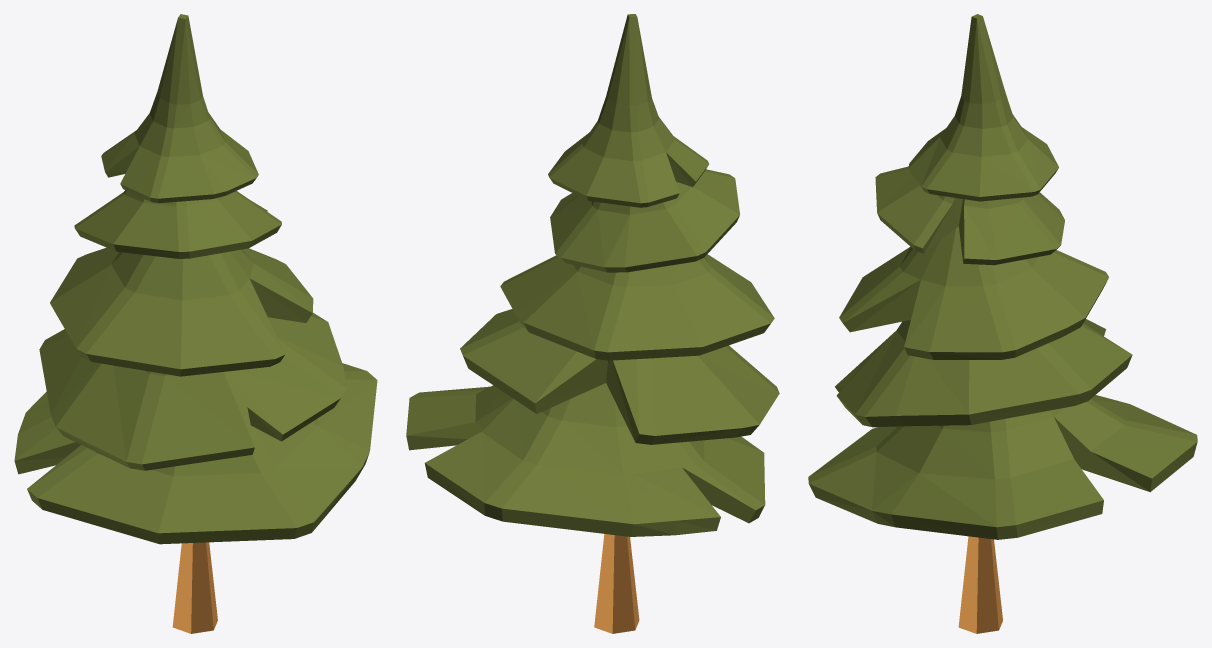
File: tree_02.FBX
The picture shows the model from 3 angles, left to right: view 1: azimuth 30°, elevation 25°; view 2: azimuth 150°, elevation 25°; view 3: azimuth 270°, elevation 25°; orthographic projection.
Parts seen in each view (by area): view 1: tree_02; view 2: tree_02; view 3: tree_02.
Part boxes in pixels (left/top/right/bottom): tree_02: left=14, top=14, right=377, bottom=633; tree_02: left=406, top=14, right=779, bottom=633; tree_02: left=808, top=14, right=1197, bottom=633.
Bounding box in the file's own units: 5.32 × 9.05 × 5.31.
Materials: 1 (1 with a texture image).
